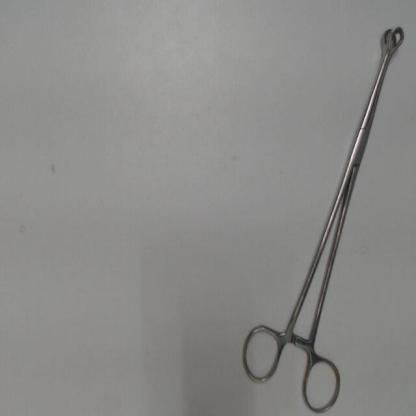8 Babcock Tissue Forceps: (238, 15, 410, 414)
